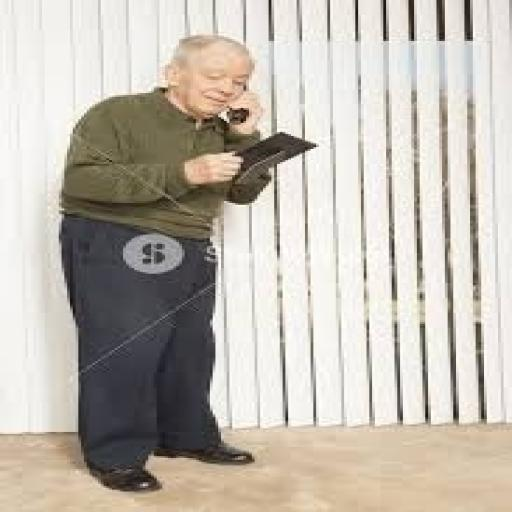calling: (53, 32, 277, 493)
